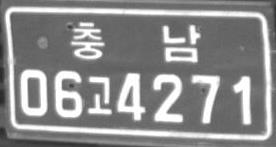0: (19, 67, 47, 117)
1: (229, 75, 259, 125)
2: (152, 72, 183, 123)
4: (116, 72, 146, 120)
6: (53, 69, 83, 118)
7: (190, 73, 221, 124)
고: (88, 75, 112, 115)
충남_D: (69, 20, 201, 63)
